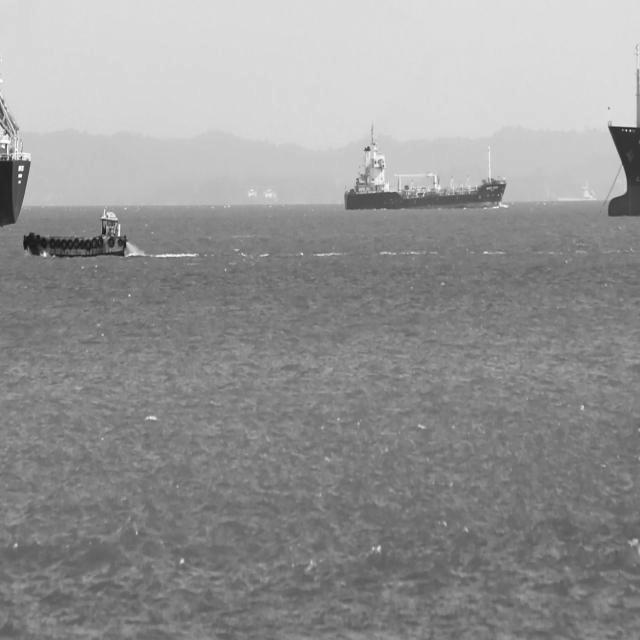ship: (344, 119, 506, 210), (607, 44, 640, 218), (22, 204, 129, 256), (0, 94, 31, 227)
